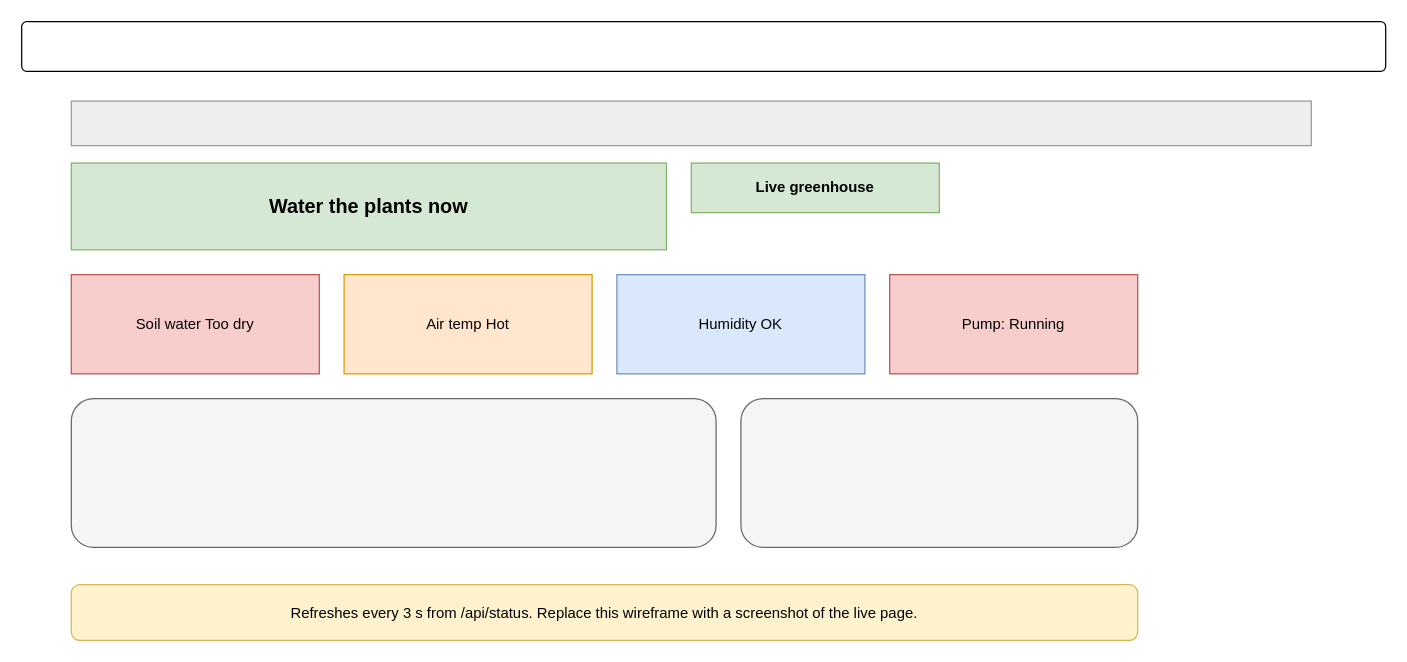
Image size: 1407x662. Some labels were removed from this diagram. The shapes that lost their labels are listed below. From the top down, each one's centre as x and y in pixels, then its label:
At (x=703, y=45): "Figure 14 — Web dashboard (Sections 6.1 and 7.0)".
At (x=690, y=123): "http://127.0.0.1:8000/ farmer dashboard".
At (x=393, y=472): "Soil line chart (last N posts)".
At (x=939, y=472): "Table: Watered / Waited rows".
